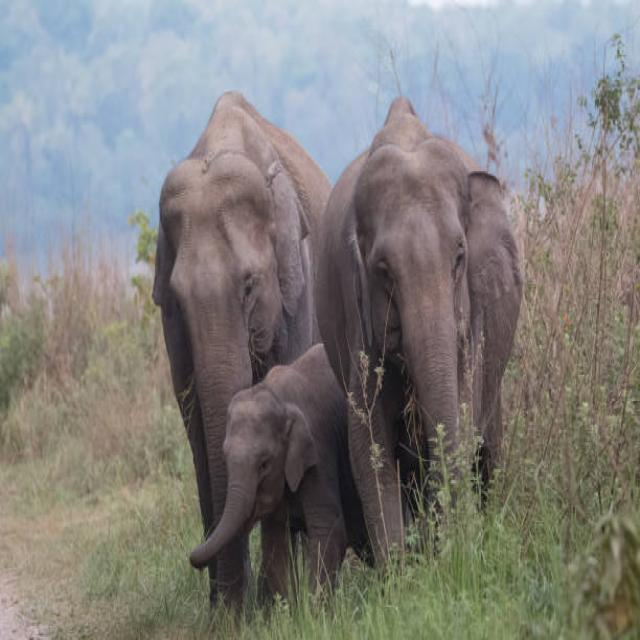Elephant: (139, 82, 345, 612), (323, 88, 536, 574), (174, 351, 392, 640)
